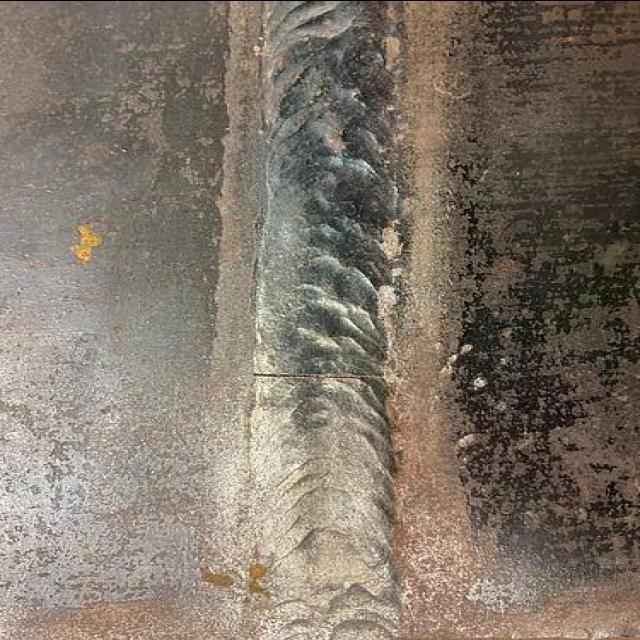Crack: (239, 368, 384, 383)
